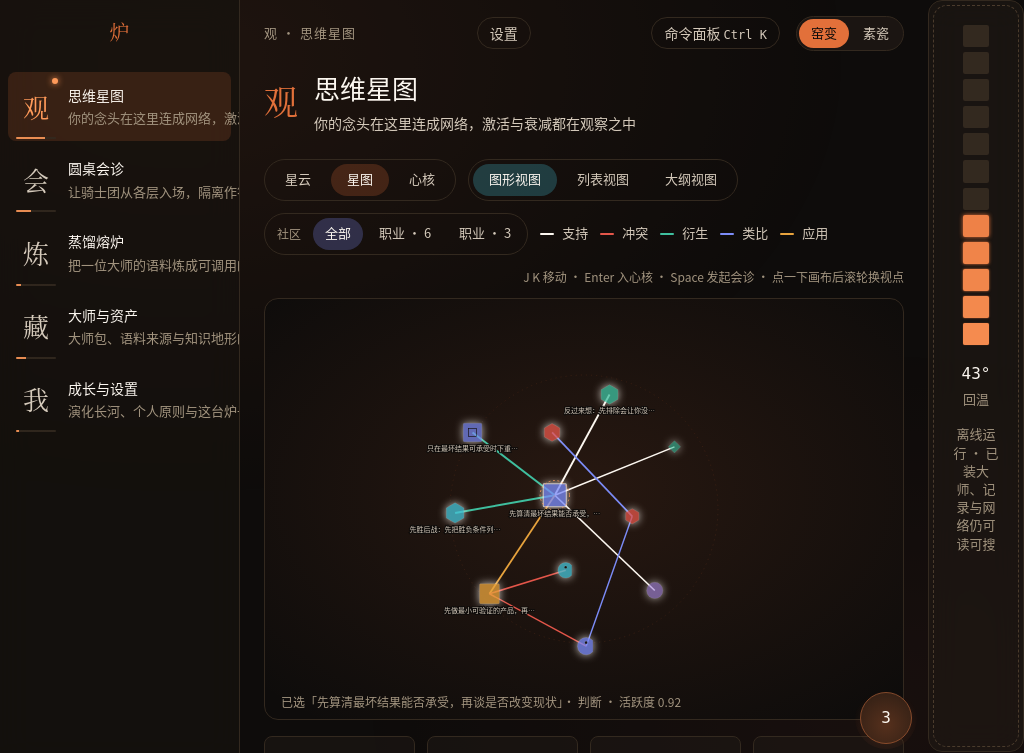
应用外壳 › 藏境界显示六层覆盖矩阵
The image size is (1024, 753).
What coordinates should you click on to do the following:
click the button "藏 大师与资产 大师包、语料来源与知识地形的总账"
I would click on:
 (120, 326)
Its box is [8,292,231,361].
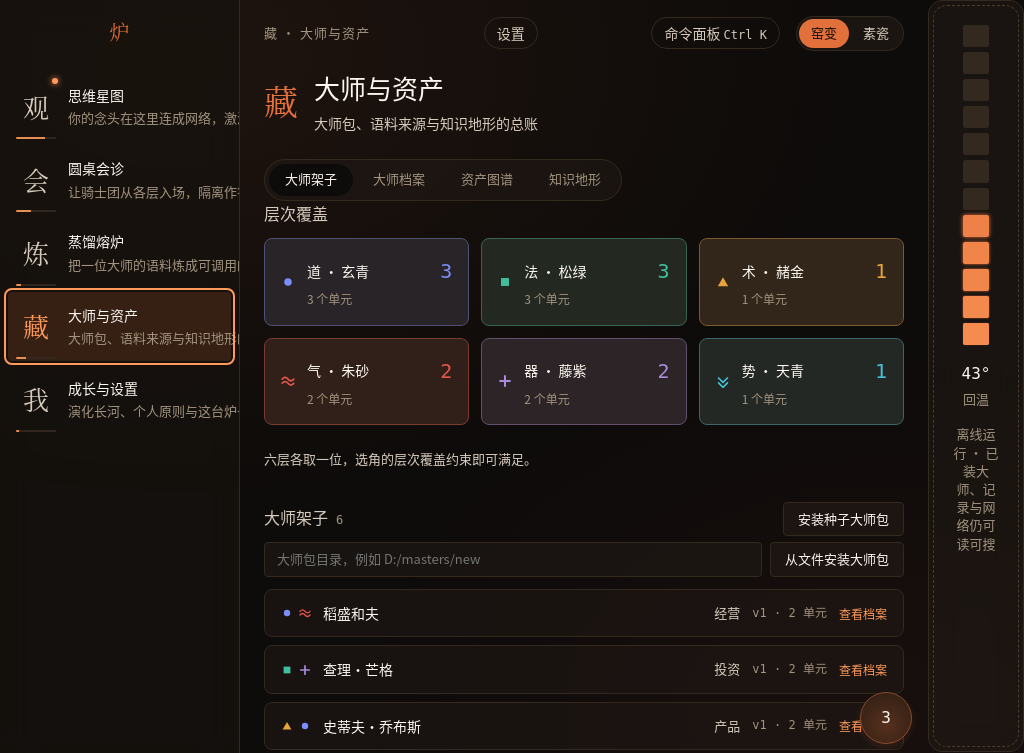
expect the heading "层次覆盖" is shown: met, box [264,201,328,225]
expect the number of list items with class "coverage__cell" is 6: met, box [264,238,469,326]; [481,238,687,326]; [699,238,904,326]; [264,338,469,425]; [481,338,687,425]; [699,338,904,425]
expect the text "稻盛和夫" is shown: met, box [323,603,379,623]
